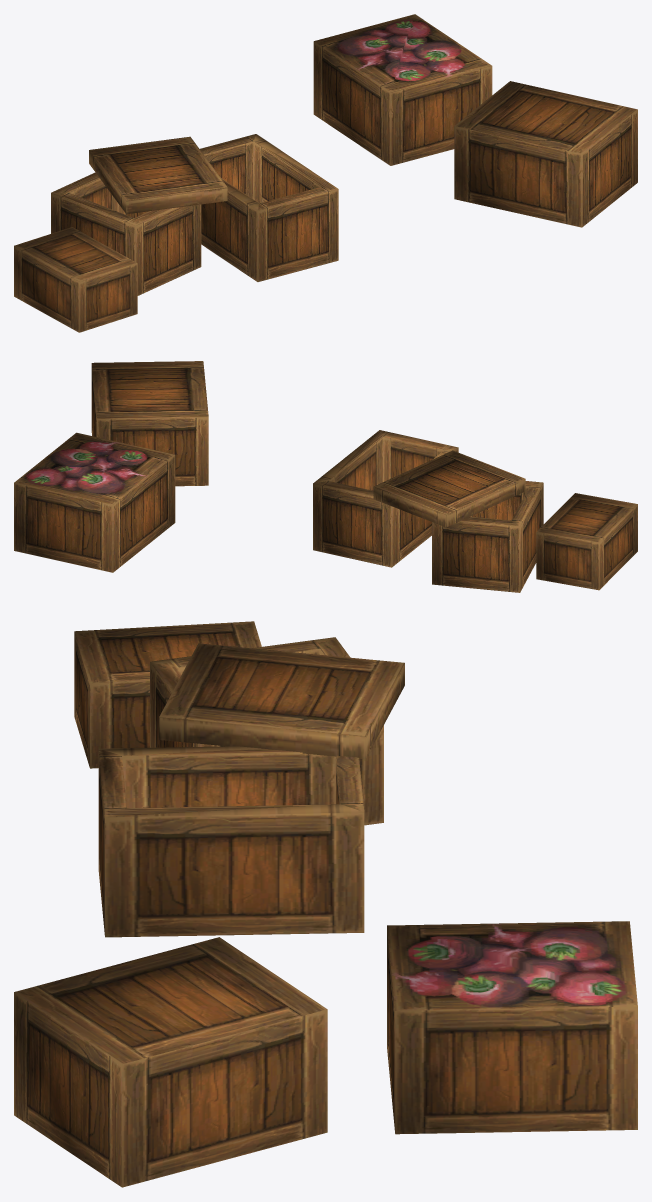
Rendered from environment_common_muxiangzitui_001_b.FBX.
The picture shows the model from 3 angles, top to bottom: view 1: azimuth 30°, elevation 25°; view 2: azimuth 150°, elevation 25°; view 3: azimuth 270°, elevation 25°; orthographic projection. The views are drawn at different scales.
Visible parts, largest first — view 1: environment_common_muxiangzitui_001_01; view 2: environment_common_muxiangzitui_001_01; view 3: environment_common_muxiangzitui_001_01.
Boxes of the visible parts, box(x1,y1,x2,y2) form: environment_common_muxiangzitui_001_01: box(14, 14, 637, 332); environment_common_muxiangzitui_001_01: box(14, 361, 637, 592); environment_common_muxiangzitui_001_01: box(14, 621, 637, 1187).
Bounding box in the file's own units: 393 × 54.39 × 216.
1 material, 1 textured.
